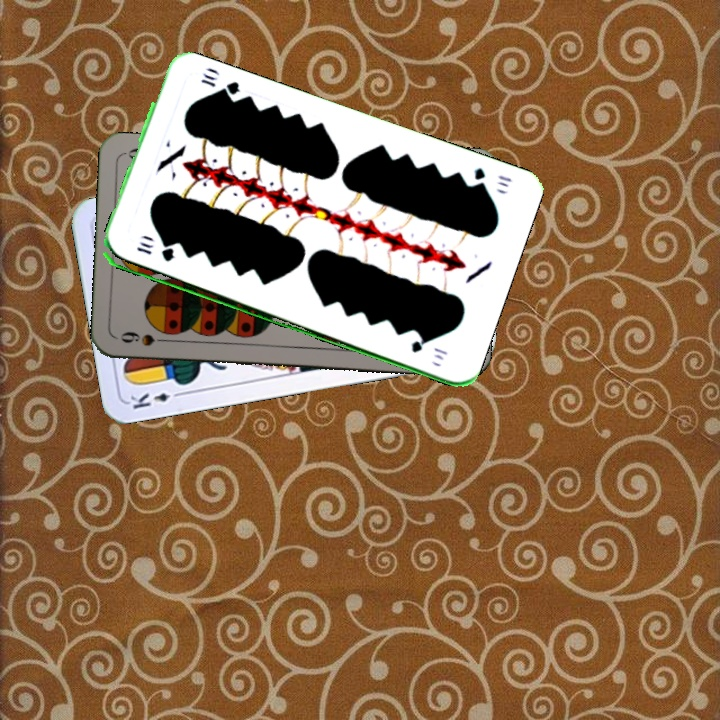EK: (126, 387, 186, 412)
G10: (469, 164, 514, 192), (132, 243, 178, 264)
S9: (117, 327, 175, 349)
